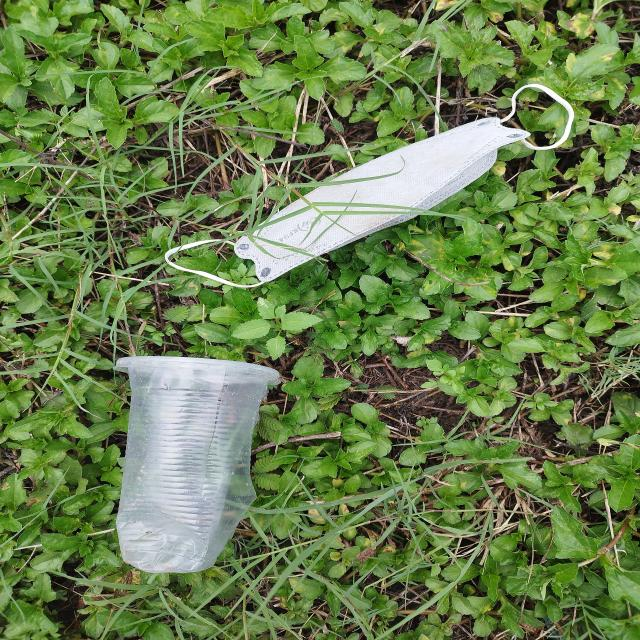mask: (167, 83, 574, 288)
plastic glass: (114, 355, 280, 572)
